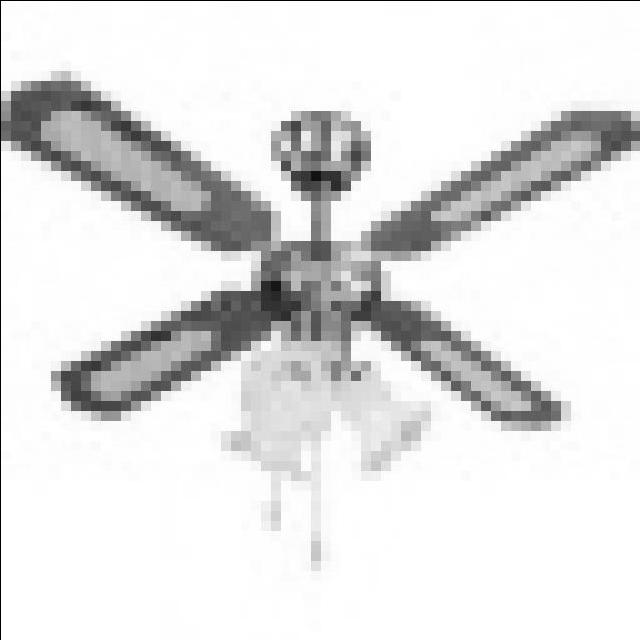fan: (2, 69, 639, 569)
